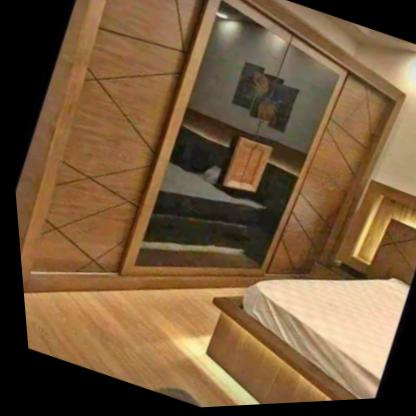Closet: (12, 0, 404, 294)
